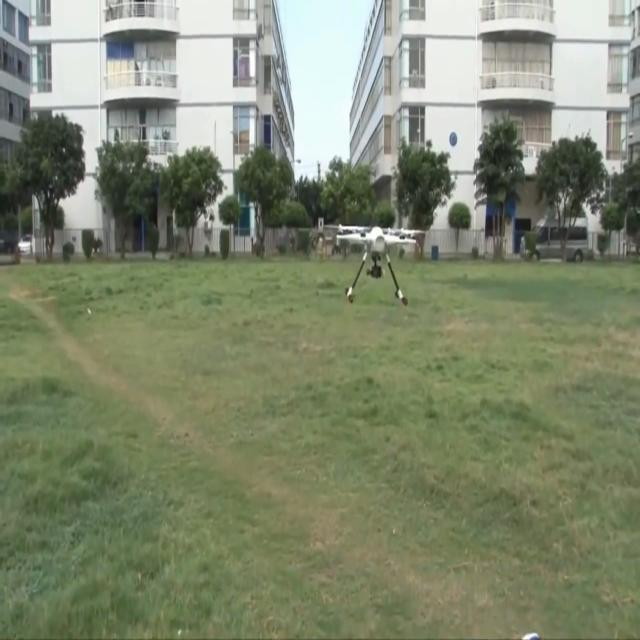drone: (335, 224, 418, 306)
